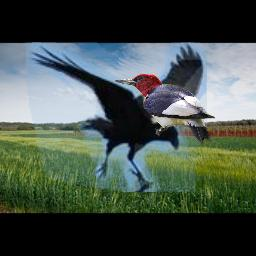Crow: (26, 42, 207, 192)
Woodpecker: (115, 74, 215, 145)
